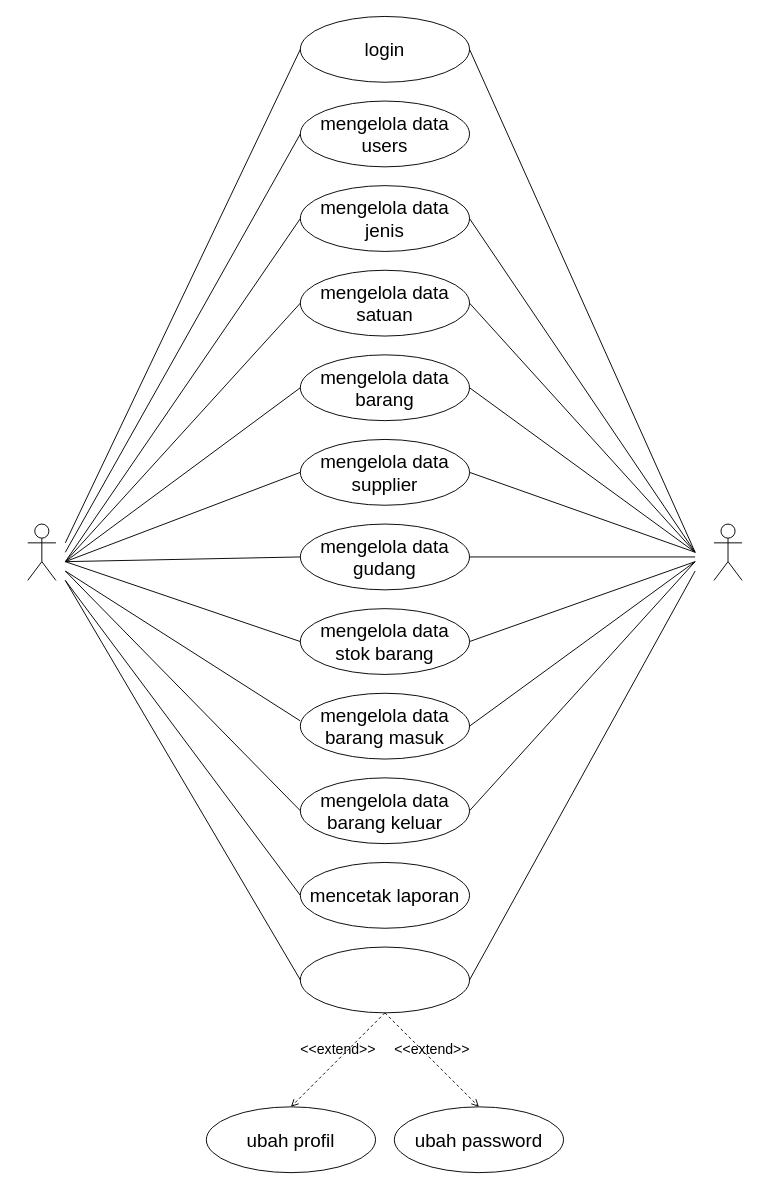
Some shapes in this 779 by 1189 pixel diagram are drawn without their labels. The centre of each missing label's shape, as x and y in pixels:
"admin" goes at (41,551).
"akun" goes at (384,979).
"pegawai" goes at (727,551).
